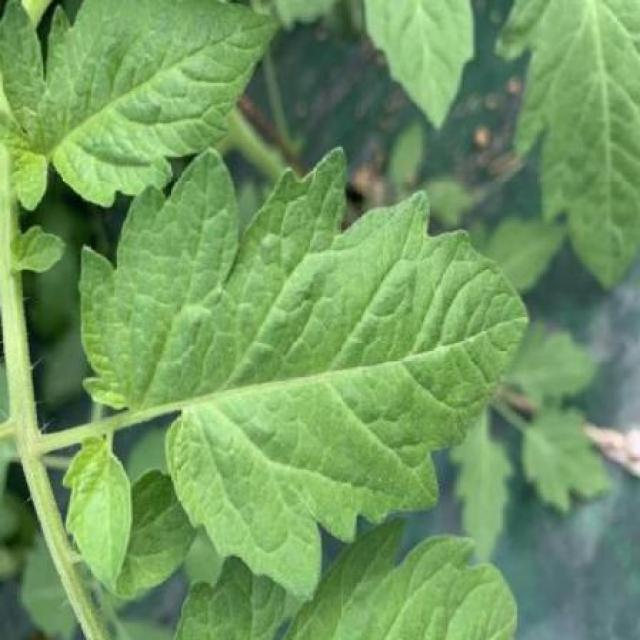Healthy: (80, 147, 530, 602), (0, 0, 280, 211), (61, 435, 133, 595)
